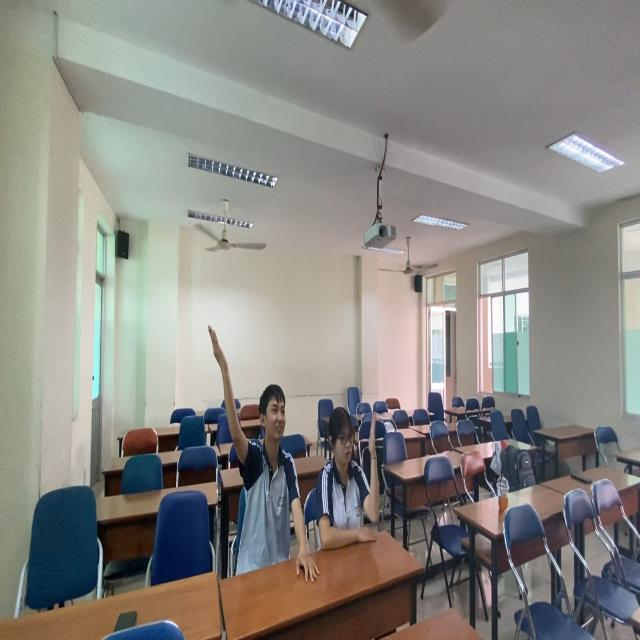raise_hand: (205, 318, 298, 542), (320, 402, 388, 557)
